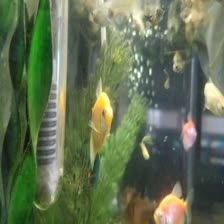Guppy: (135, 132, 154, 162), (168, 52, 193, 73)
Plano: (82, 78, 117, 171), (175, 114, 200, 148)
